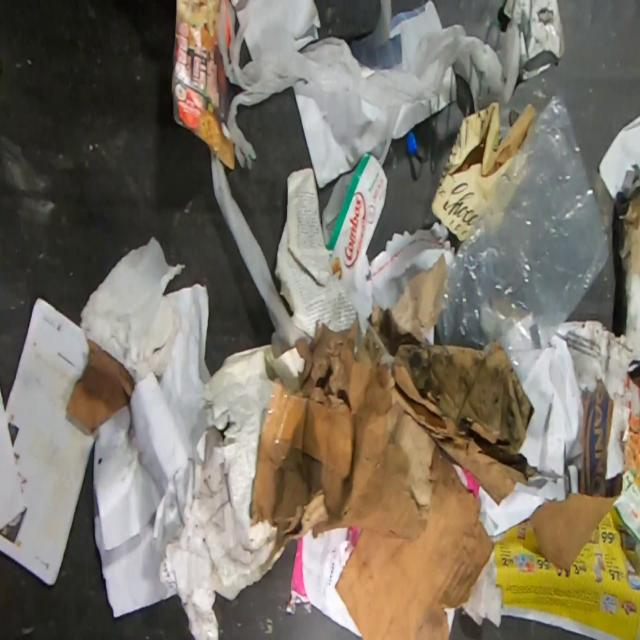cardboard: (248, 317, 494, 640), (367, 252, 538, 505), (152, 372, 286, 640), (170, 0, 234, 171), (64, 337, 137, 432), (564, 318, 634, 401), (618, 186, 640, 359)
soft_plastic: (435, 94, 610, 388), (503, 0, 566, 81)
